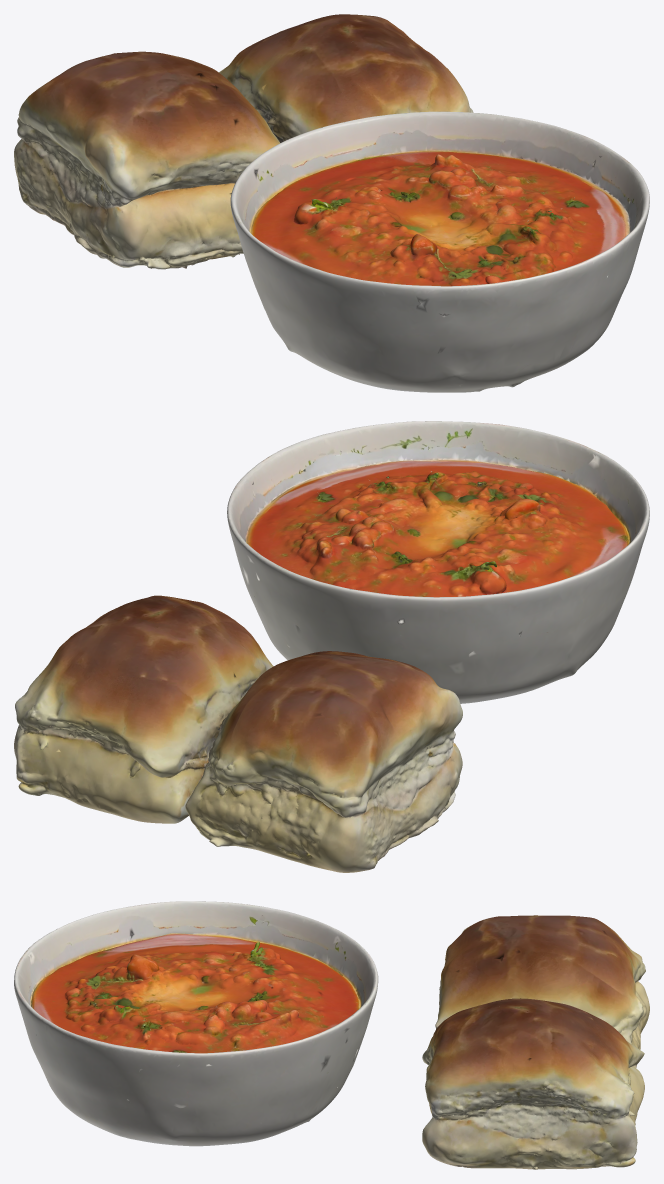
The model's file is Paneer_Tikka.glb.
3 views of the same model, one above another, from view 1: azimuth 30°, elevation 25°; view 2: azimuth 150°, elevation 25°; view 3: azimuth 270°, elevation 25° (orthographic). The views are drawn at different scales.
Parts seen in each view (by area): view 1: Mesh_0, Mesh_0.001; view 2: Mesh_0, Mesh_0.001; view 3: Mesh_0, Mesh_0.001.
Boxes of the visible parts, left/top/right/bottom form: Mesh_0: left=230, top=111, right=649, bottom=392; Mesh_0.001: left=14, top=14, right=473, bottom=269; Mesh_0: left=227, top=421, right=649, bottom=703; Mesh_0.001: left=14, top=595, right=462, bottom=872; Mesh_0: left=14, top=901, right=378, bottom=1146; Mesh_0.001: left=422, top=915, right=649, bottom=1169.
Bounding box in the file's own units: 2 × 0.8501 × 3.49.
Materials: 2 (2 with a texture image).
